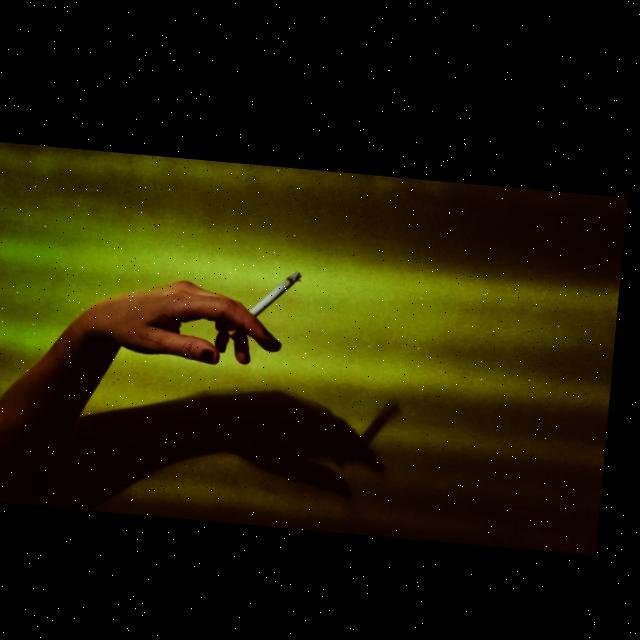cigarette: (254, 261, 307, 315)
